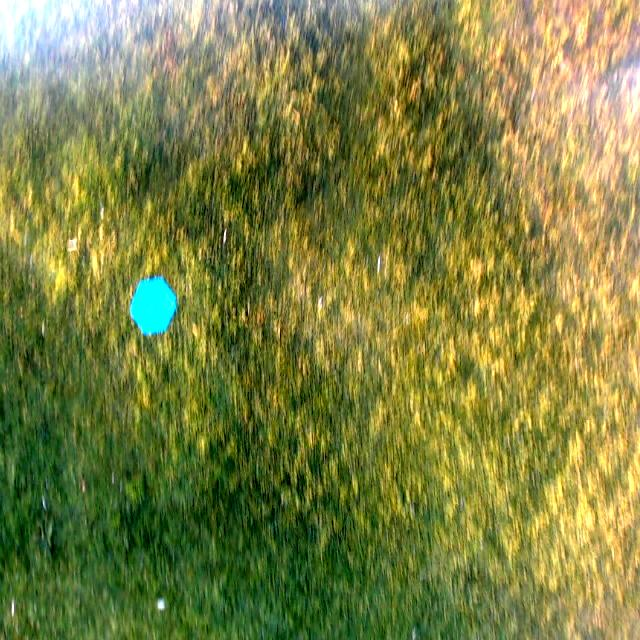blue_hexagon: (131, 276, 176, 334)
